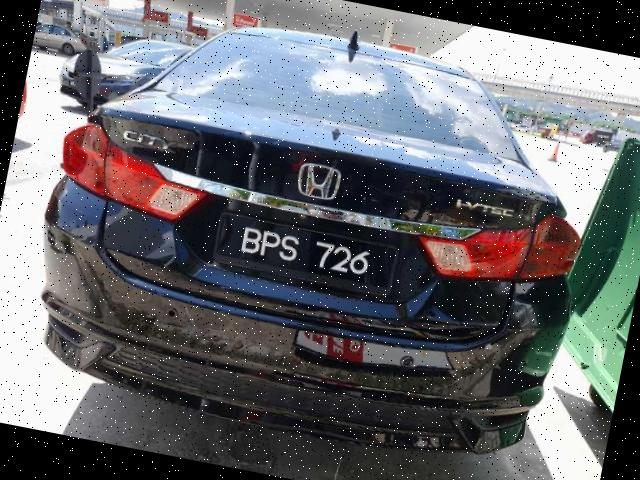License_Plate: (210, 210, 402, 300)
car: (12, 1, 617, 480)
